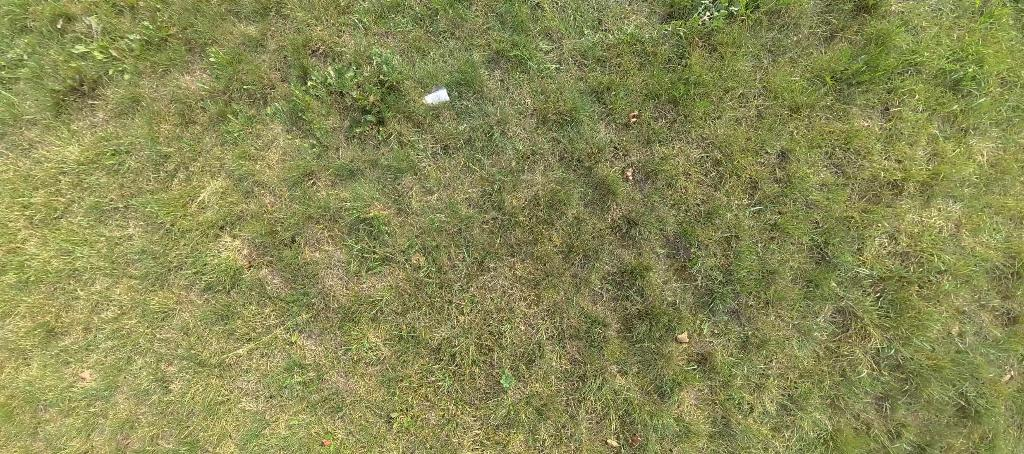garbage: (423, 87, 453, 111)
